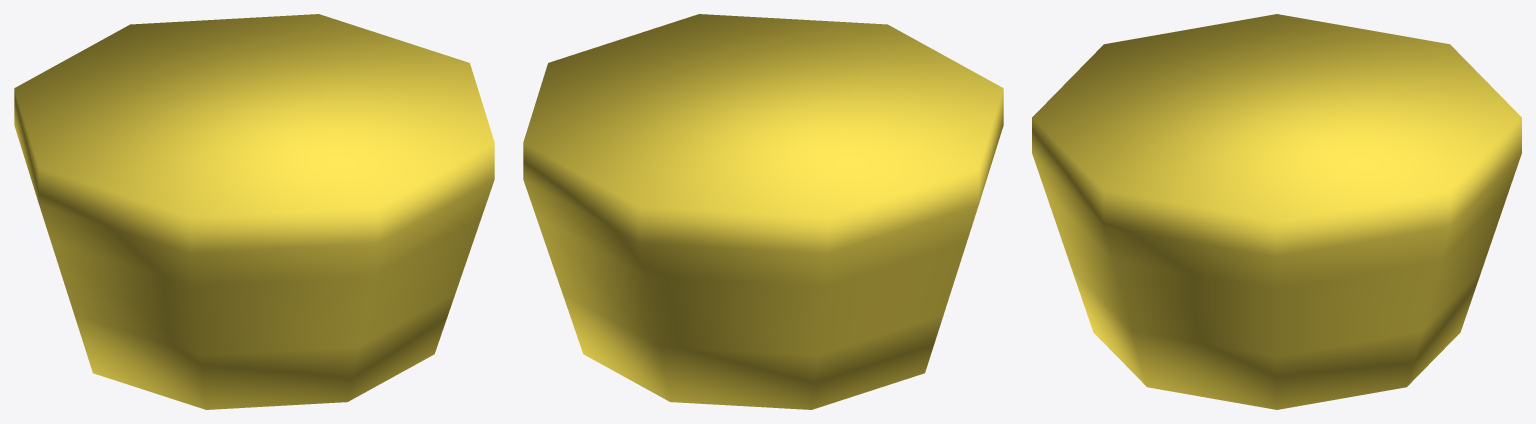
Rendered from lemonade 2.glb.
3 renders of one model, left to right at view 1: azimuth 30°, elevation 25°; view 2: azimuth 150°, elevation 25°; view 3: azimuth 270°, elevation 25°, orthographic.
Parts seen in each view (by area): view 1: Cylinder.003; view 2: Cylinder.003; view 3: Cylinder.003.
Boxes of the visible parts, x1,y1,x2,y2 form: Cylinder.003: (14, 14, 494, 409); Cylinder.003: (523, 14, 1003, 409); Cylinder.003: (1032, 14, 1521, 409).
Bounding box in the file's own units: 1.94 × 0.9403 × 1.94.
